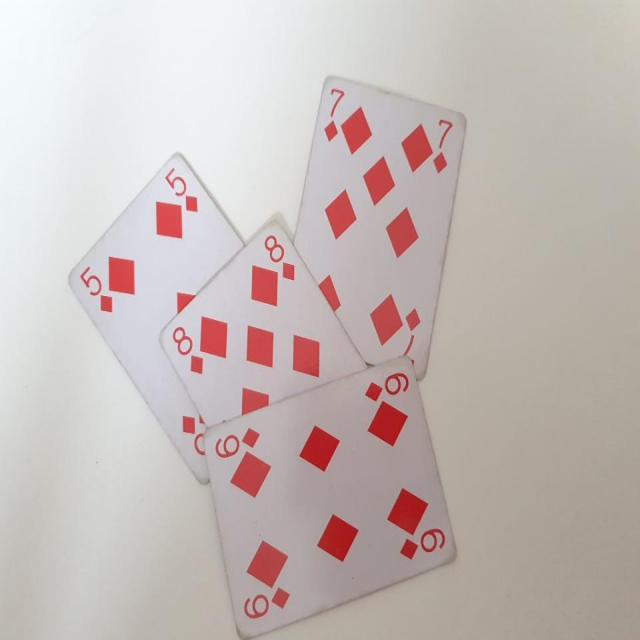5 Diamonds: (59, 149, 242, 487)
6 Diamonds: (202, 353, 458, 638)
7 Diamonds: (288, 75, 468, 385)
8 Diamonds: (156, 221, 372, 427)
